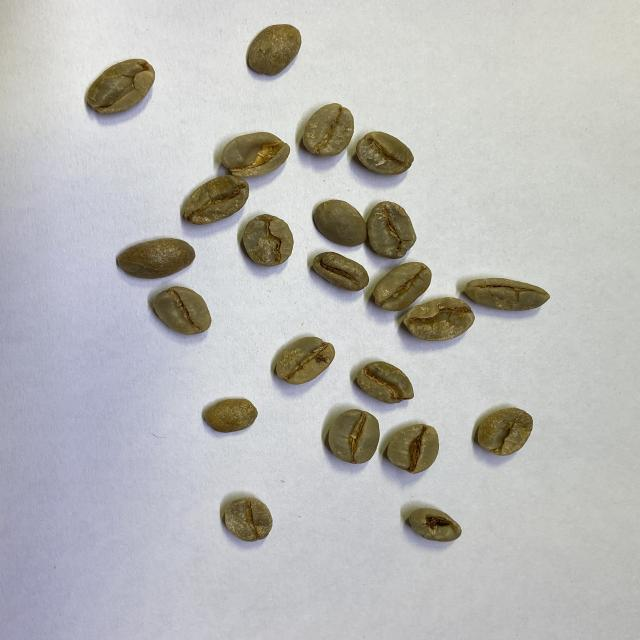bad: (220, 130, 292, 180), (402, 295, 476, 343), (465, 274, 552, 312), (180, 178, 250, 225), (272, 336, 336, 384), (367, 200, 418, 260), (358, 131, 415, 179), (312, 251, 368, 294), (407, 506, 463, 544)
good: (83, 56, 155, 116), (115, 236, 197, 280), (149, 285, 213, 336), (245, 22, 302, 79), (240, 212, 294, 270), (302, 101, 354, 158), (475, 406, 533, 457), (327, 410, 380, 465), (386, 422, 442, 474), (353, 359, 416, 405), (371, 262, 431, 309), (311, 198, 367, 248), (225, 496, 274, 543), (202, 397, 258, 433)
